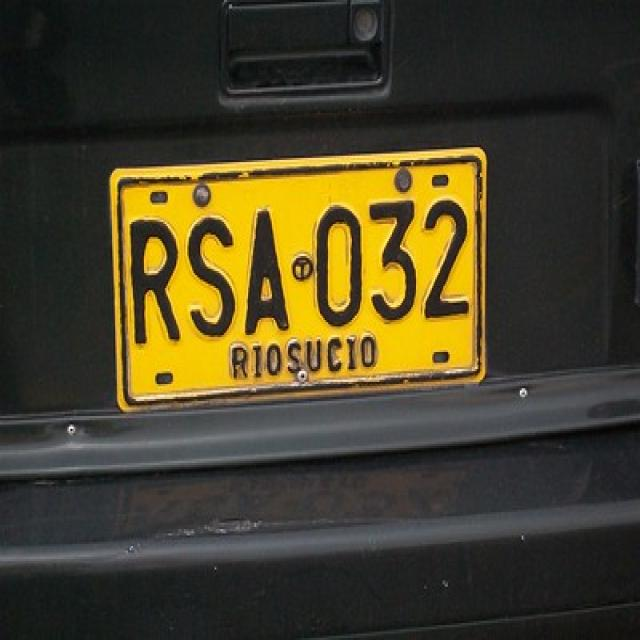placa_carro: (91, 137, 528, 440)
